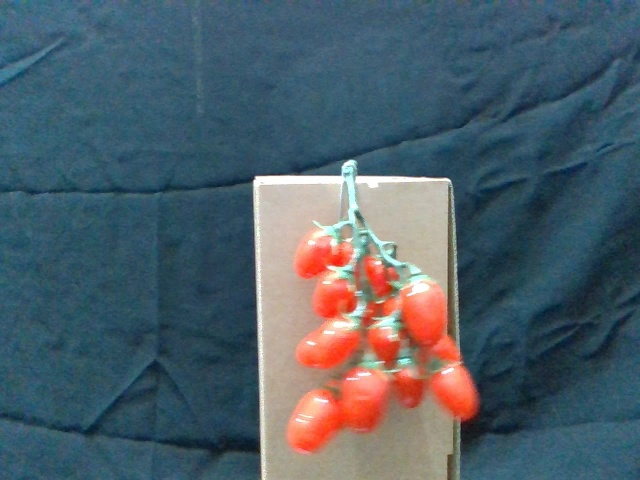tomato: (400, 274, 449, 349), (290, 388, 342, 453), (430, 362, 484, 423), (343, 368, 390, 433), (296, 222, 339, 276), (386, 350, 426, 408), (314, 318, 360, 365), (317, 266, 353, 318), (368, 317, 403, 360)
